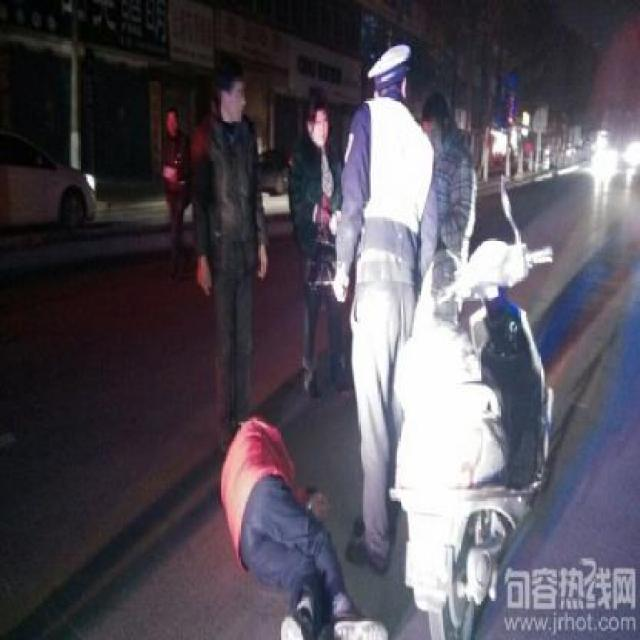fall: (219, 398, 396, 638)
